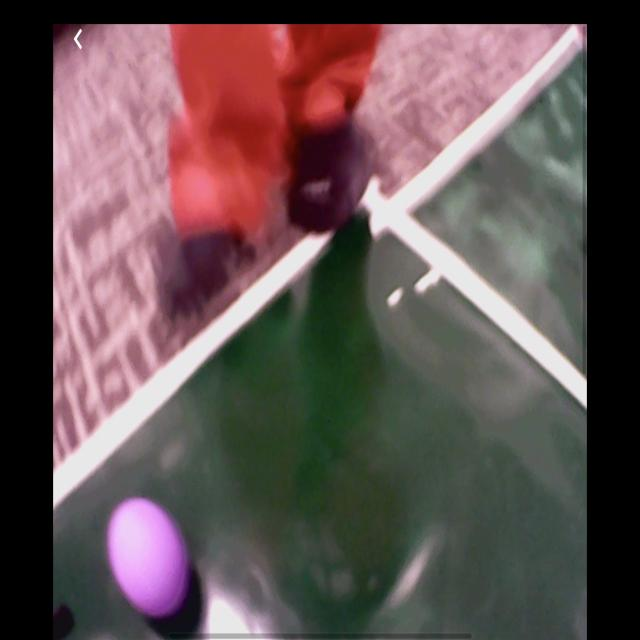ball: (106, 496, 190, 618)
